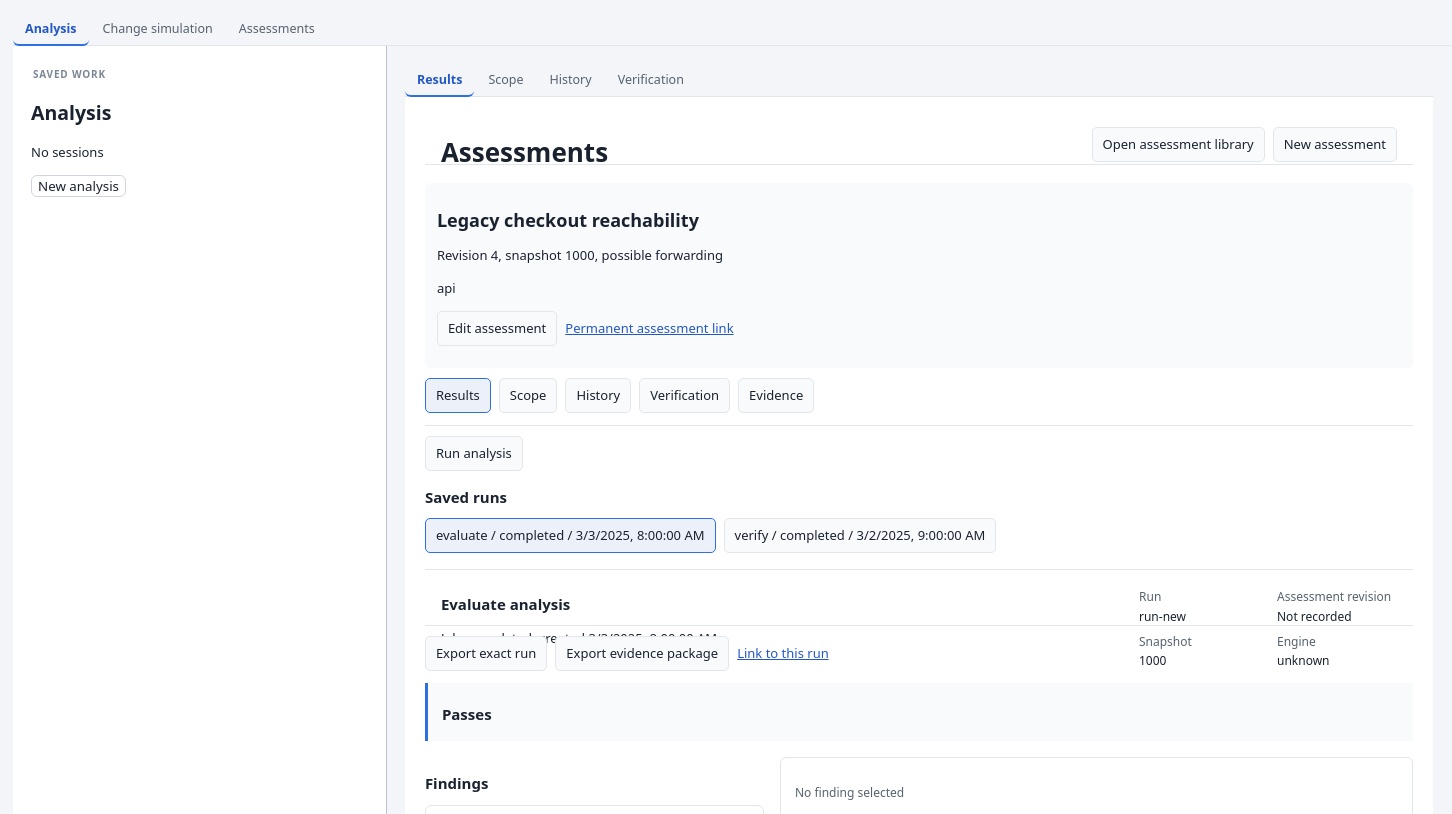
Compatibility › opens a saved proposal of a stored assessment through the Analysis History section
Expected: the heading "Legacy checkout reachability" is shown, top-left (437, 208), bottom-right (699, 232)
Click the tab "History" at point(571, 80), box top-left (538, 64), bottom-right (604, 97)
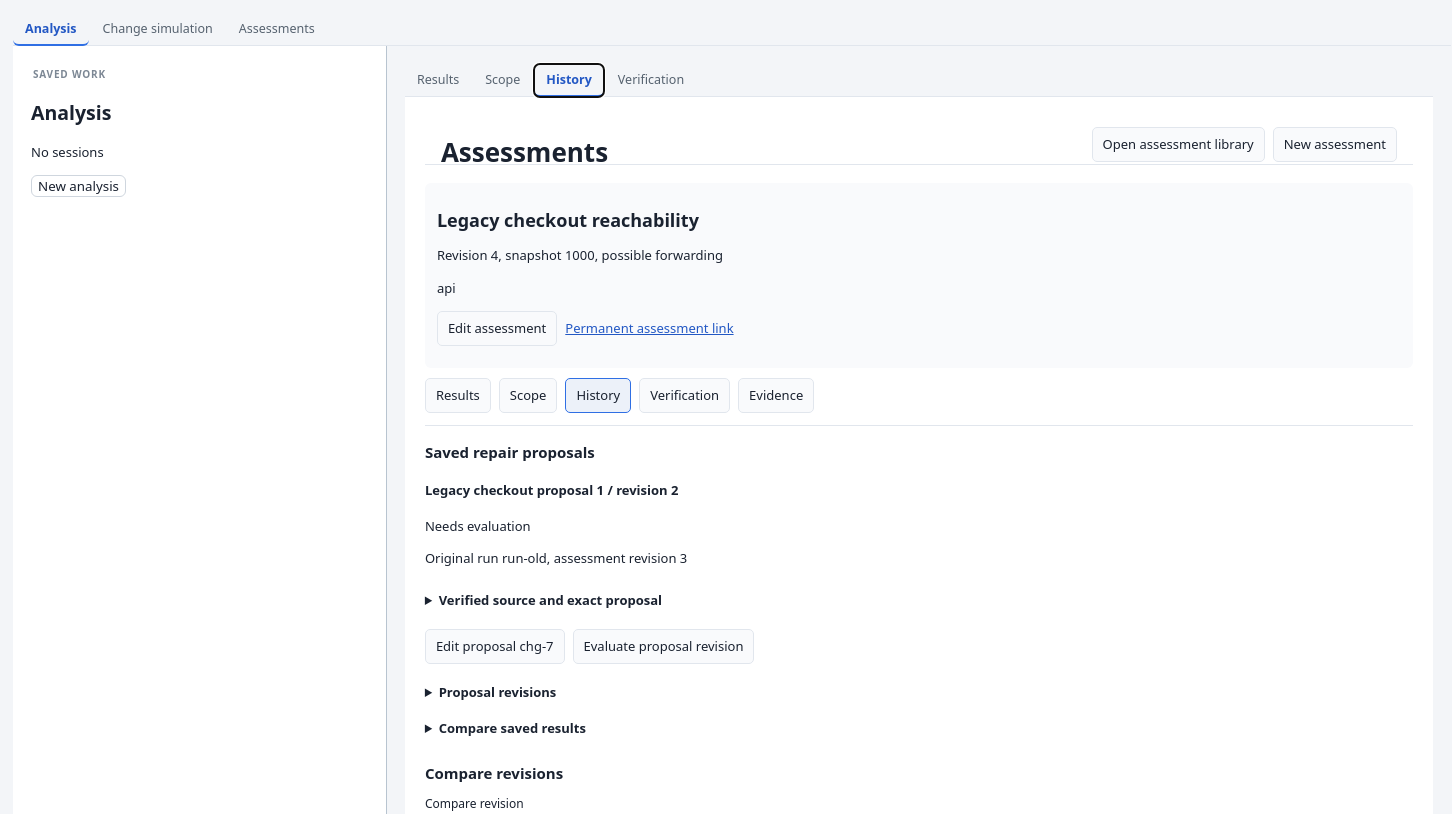
Result: the heading "Saved repair proposals" is shown at top-left (425, 442), bottom-right (595, 462)
Result: the heading "Legacy checkout proposal 1 / revision 2" is shown at top-left (425, 481), bottom-right (678, 499)
Result: the text "Needs evaluation" is shown at top-left (425, 517), bottom-right (531, 535)
